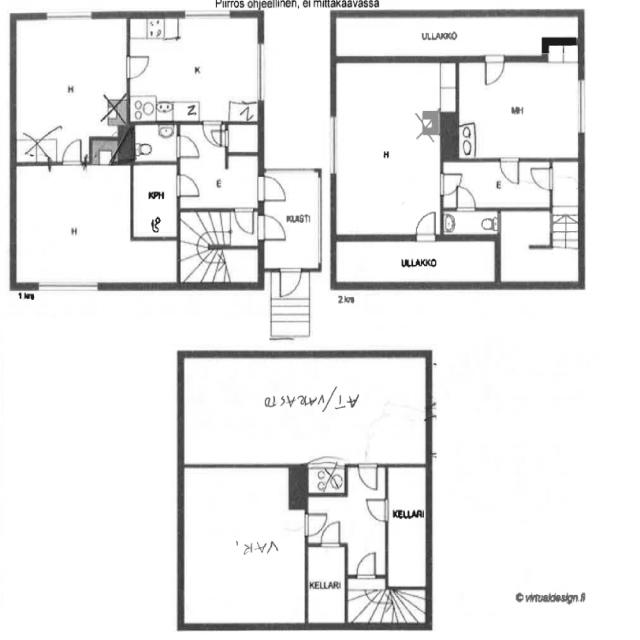door: (261, 172, 319, 267), (437, 175, 477, 209), (480, 53, 508, 89), (259, 173, 289, 205), (123, 52, 154, 82), (175, 170, 204, 202), (260, 212, 288, 244), (299, 510, 328, 540), (355, 461, 382, 493), (364, 495, 391, 526), (59, 137, 86, 168), (277, 267, 303, 299), (201, 118, 227, 150), (498, 154, 522, 188), (232, 205, 257, 236), (528, 165, 556, 192), (354, 550, 379, 580), (174, 134, 201, 161), (438, 170, 463, 199), (455, 185, 478, 212), (320, 520, 342, 548), (414, 210, 436, 238)
window: (30, 277, 104, 296), (253, 38, 269, 106), (326, 111, 341, 181), (178, 8, 238, 24), (574, 74, 588, 139), (42, 7, 95, 23)
zone: (182, 356, 427, 466), (180, 464, 308, 628), (334, 58, 446, 240), (12, 164, 178, 283), (12, 14, 132, 159), (126, 15, 262, 122), (455, 56, 581, 160), (330, 237, 500, 286), (262, 166, 321, 270), (385, 465, 428, 590), (132, 162, 178, 240), (307, 543, 346, 626), (131, 120, 180, 162), (442, 209, 501, 238), (303, 457, 348, 493), (550, 162, 580, 212), (226, 121, 262, 155)
